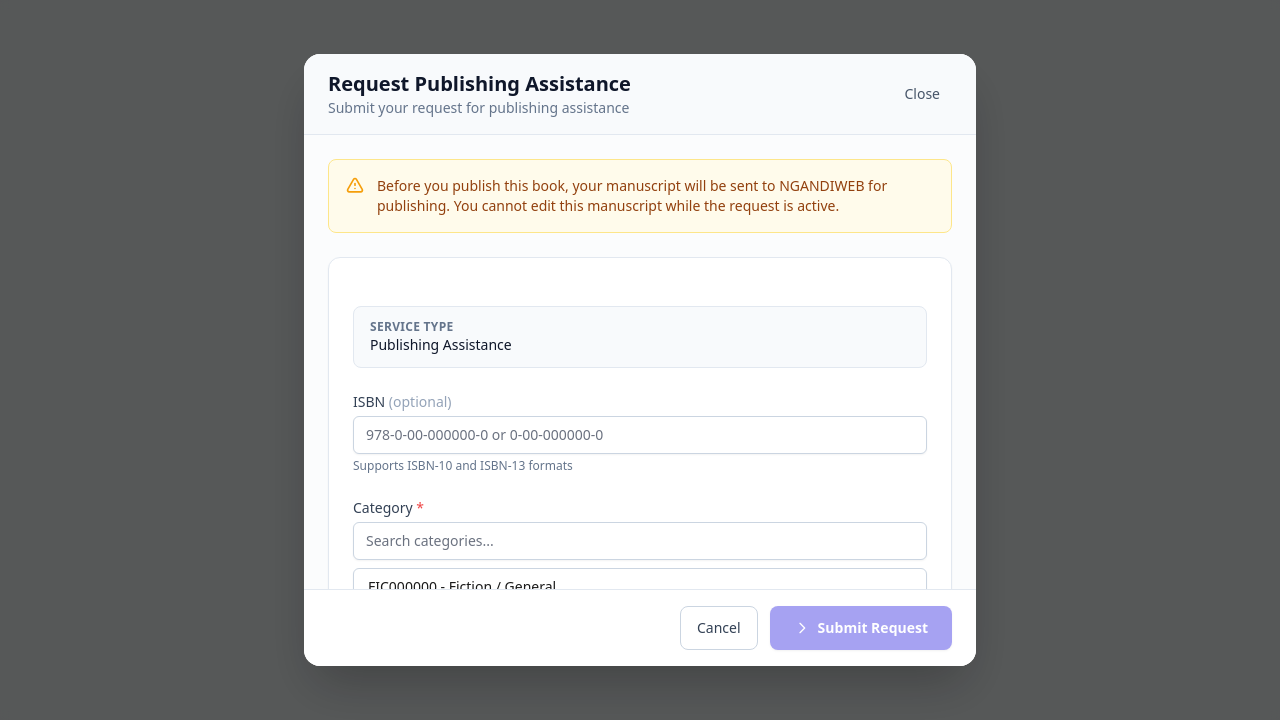
Test: ServiceRequestModal › publishing form › validates ISBN format
This screenshot has width=1280, height=720.
Type "invalid-isbn-123" into the field labelled "ISBN (optional)". click: (640, 435)
box: [353,416,927,454]
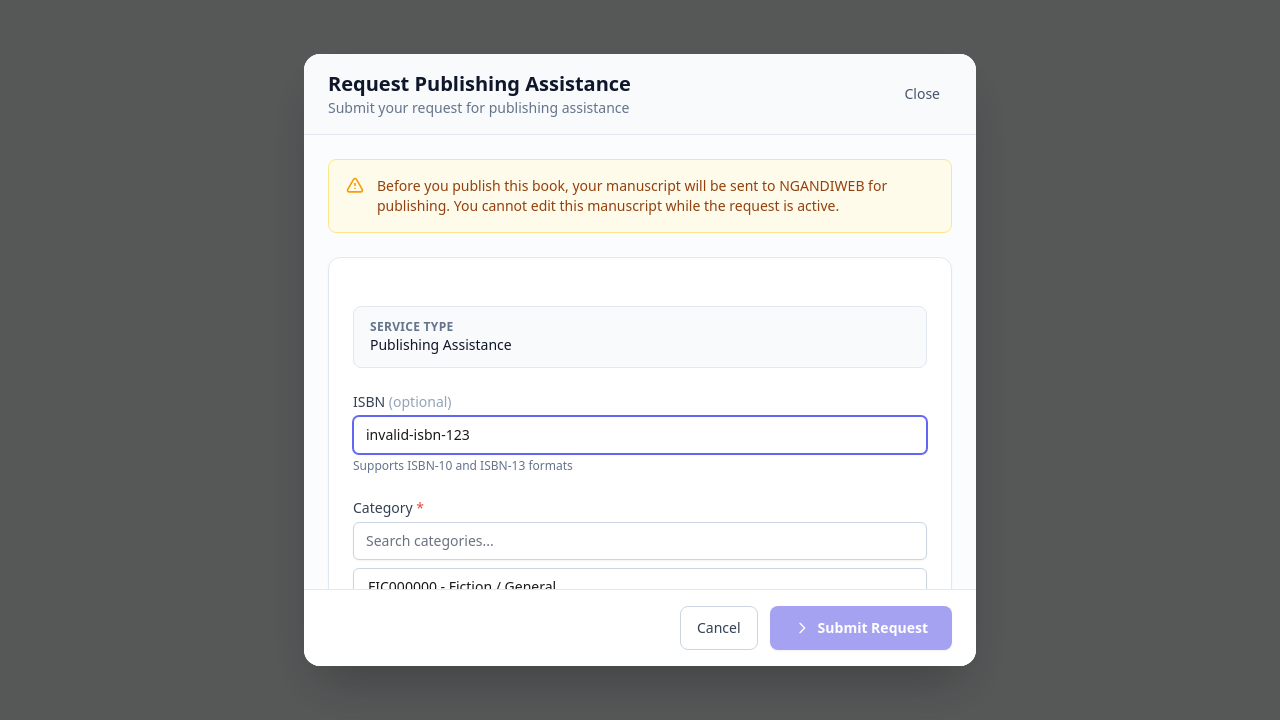
# Invalid ISBN should show error after typing enough digits
Type "12345678901234" into the field labelled "ISBN (optional)". click: (640, 435)
box: [353,416,927,454]
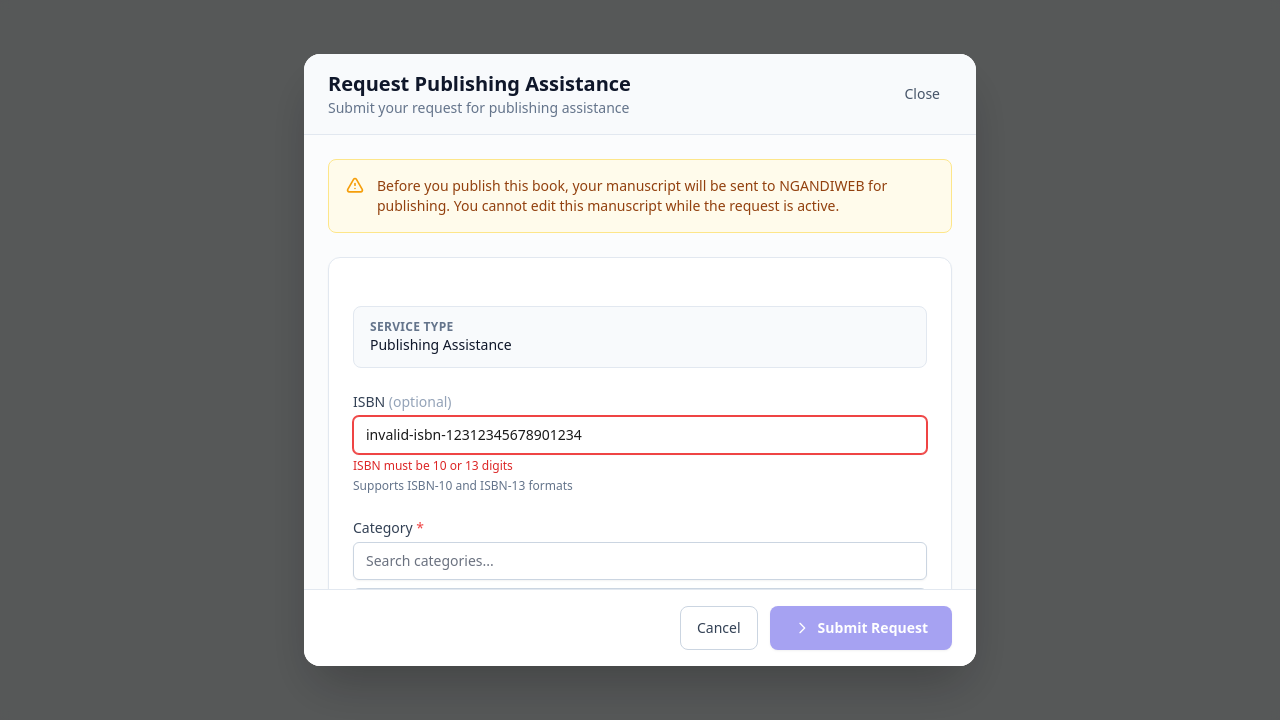
Expected: the text "ISBN must be 10 or 13 digits" is shown, [353,457,513,474]
